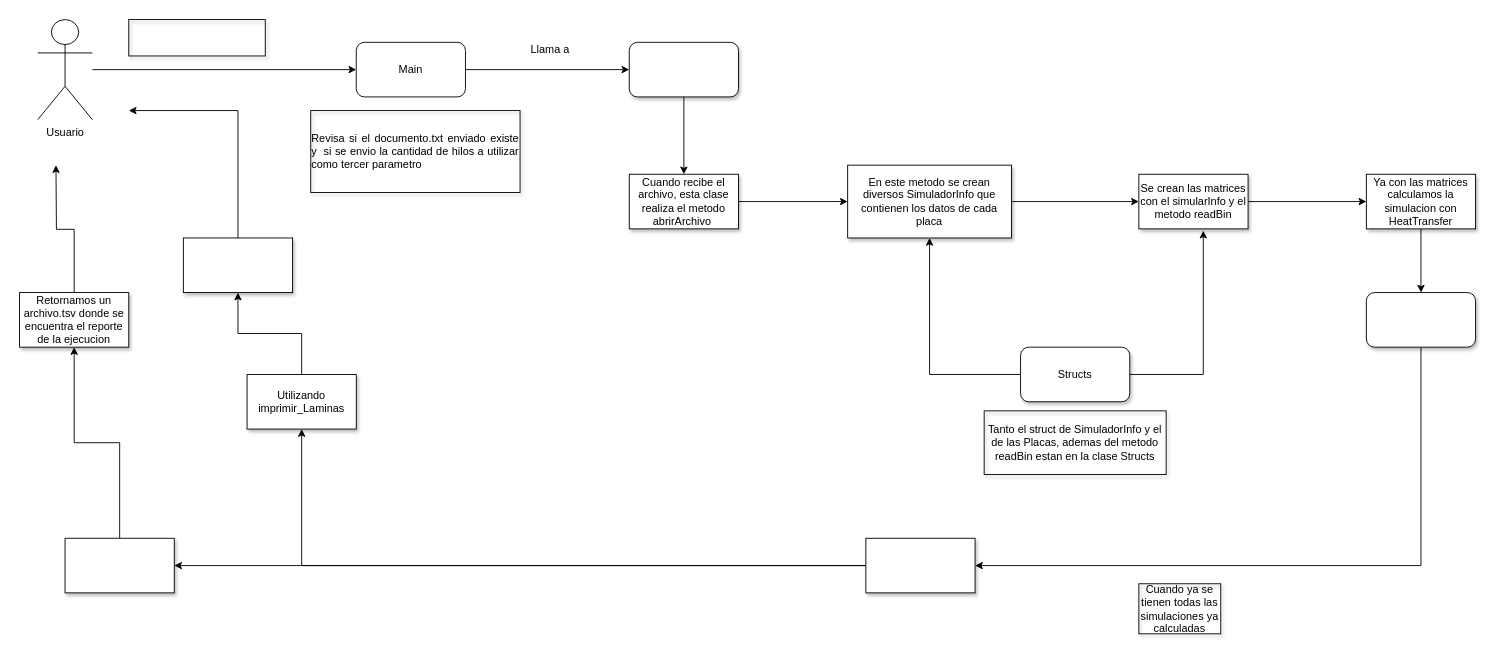
The diagram is 1497 pixels wide and 656 high, and some of its shapes have lost their labels. The centre of each missing label's shape, as x and y in pixels:
"Creamos archivos binarios donde estan contenidas las laminas resultantes" belongs at pixel 238 266.
"Envia los datos a traves de la linea de comandos como un .txt" belongs at pixel 197 38.
"Para calcular las sumas de forma más eficiente, utilizamos OMP aqui" belongs at pixel 1421 321.
"Retornamos los resultados de 2 formas" belongs at pixel 921 566.
"SimuladorPlacas" belongs at pixel 684 70.
"Utilizando el metodo Imprimir_Resultado" belongs at pixel 120 566.
